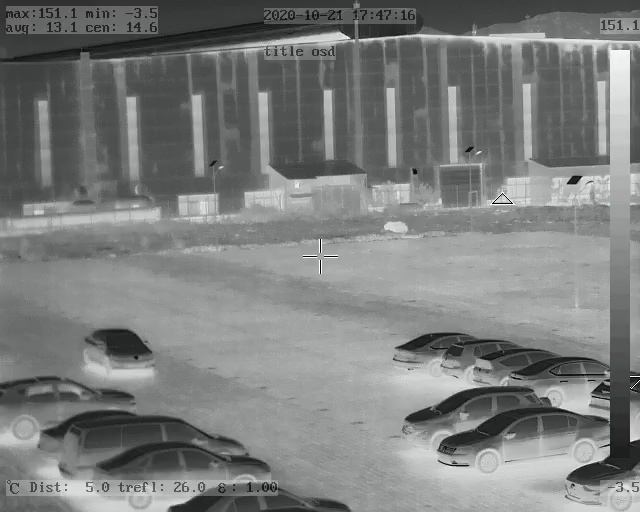vehicle: (53, 411, 239, 483), (99, 444, 270, 508), (450, 408, 611, 471), (1, 372, 154, 437), (408, 385, 528, 440), (564, 442, 640, 509), (514, 355, 608, 405), (75, 323, 154, 376), (393, 329, 465, 372), (442, 337, 510, 379), (467, 347, 537, 387)
